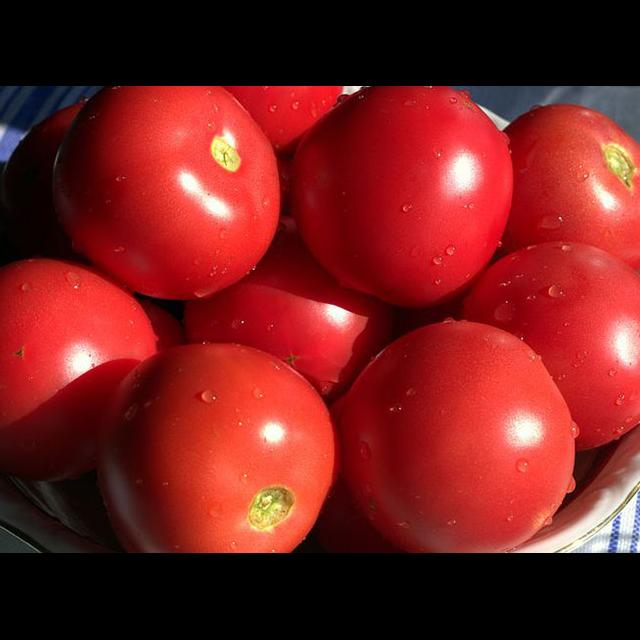tomato: (331, 320, 575, 552), (99, 344, 334, 552), (293, 86, 512, 308), (53, 86, 280, 298), (462, 242, 640, 450), (184, 224, 391, 398), (0, 258, 156, 480), (502, 104, 640, 268), (223, 86, 342, 154)
